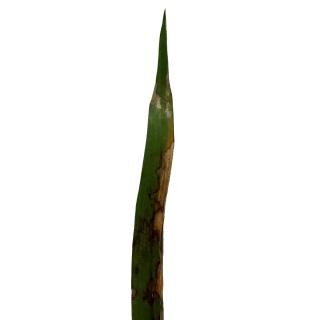Hawar-Daun: (144, 139, 174, 225), (129, 211, 159, 263), (143, 255, 168, 307), (150, 76, 177, 112)
